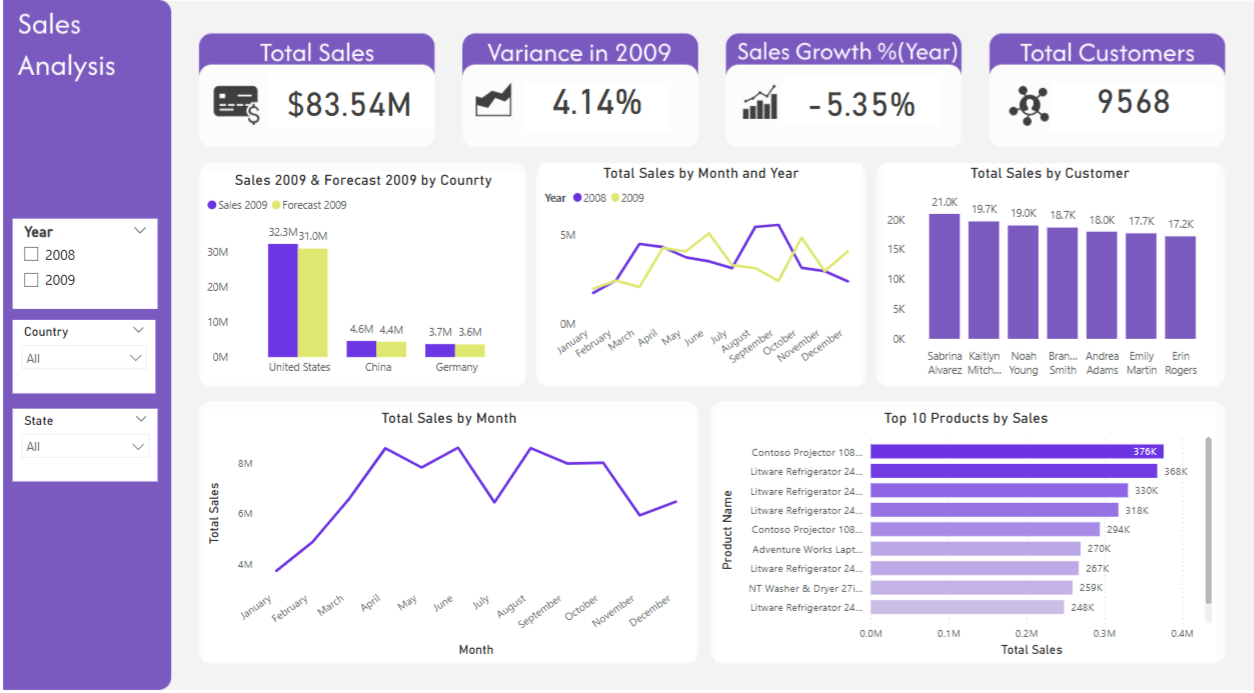

This screenshot's page, from the dashboard's own definition file:
{"tool":"powerbi","page":{"name":"Sales Analysis","canvas":[1450,800],"ordinal":0},"visuals":[{"type":"image","box":[10,0,1440,800],"z":0},{"type":"lineChart","fields":{"Category":["Date.Date.Variation.Date Hierarchy.Year","Date.Date.Variation.Date Hierarchy.Quarter","Date.Date.Variation.Date Hierarchy.Month","Date.Date.Variation.Date Hierarchy.Day"],"Y":["Sales.Total Sales"]},"box":[242.9,472.9,562.9,288.6],"z":1000},{"type":"barChart","title":"Top 10 Products by Sales","fields":{"Category":["Products.Product Name"],"Y":["Sales.Total Sales"]},"box":[828.6,472.9,572.9,288.6],"z":2000},{"type":"lineChart","fields":{"Category":["Date.Date.Variation.Date Hierarchy.Month"],"Series":["Date.Date.Variation.Date Hierarchy.Year"],"Y":["Sales.Total Sales"]},"box":[628.6,192.9,367.1,251.4],"z":3000},{"type":"columnChart","title":"Total Sales by Customer","fields":{"Category":["Customers.Full Name"],"Y":["Sales.Total Sales"]},"box":[1020,192.9,381.4,251.4],"z":4000},{"type":"slicer","fields":{"Values":["Date.Year"]},"box":[25.7,255.7,165.7,102.9],"z":6000},{"type":"slicer","fields":{"Values":["Customers.State"]},"box":[25.7,472.9,165.7,82.9],"z":7000},{"type":"slicer","fields":{"Values":["Customers.State","Customers.CountryRegion"]},"box":[25.7,371.4,162.9,84.3],"z":8000},{"type":"card","fields":{"Values":["Sales.Total Sales"]},"box":[315.7,90,190,61.4],"z":9000},{"type":"card","fields":{"Values":["Sales.Sales Growth %"]},"box":[904.3,92.9,181.4,55.7],"z":10000},{"type":"card","fields":{"Values":["Sales.Variance %"]},"box":[610,100,167.1,57.1],"z":11000},{"type":"card","fields":{"Values":["Customers.No. Customers"]},"box":[1211.4,100,190,57.1],"z":12000},{"type":"clusteredColumnChart","title":"Sales 2009 & Forecast 2009 by Counrty","fields":{"Category":["Country.CounrtyRegion"],"Y":["Sales.Sales 2009","Forecast.Forecast 2009"]},"box":[242.7,201.8,367.3,242.7],"z":12001}]}

Visuals, with their boxes in screenshot pixels (x1, y1, x2, y2), scaled from the page's 1450x800 canvas onto the 1254x693 screenshot:
image: 9,0,1253,692
lineChart - Date.Date.Variation.Date Hierarchy.Year x Date.Date.Variation.Date Hierarchy.Quarter: 210,410,697,660
"Top 10 Products by Sales" barChart: 717,410,1212,660
lineChart - Date.Date.Variation.Date Hierarchy.Month x Date.Date.Variation.Date Hierarchy.Year: 544,167,861,385
"Total Sales by Customer" columnChart: 882,167,1212,385
slicer - Date.Year: 22,222,166,311
slicer - Customers.State: 22,410,166,481
slicer - Customers.State x Customers.CountryRegion: 22,322,163,395
card - Sales.Total Sales: 273,78,437,131
card - Sales.Sales Growth %: 782,80,939,129
card - Sales.Variance %: 528,87,672,136
card - Customers.No. Customers: 1048,87,1212,136
"Sales 2009 & Forecast 2009 by Counrty" clusteredColumnChart: 210,175,528,385
